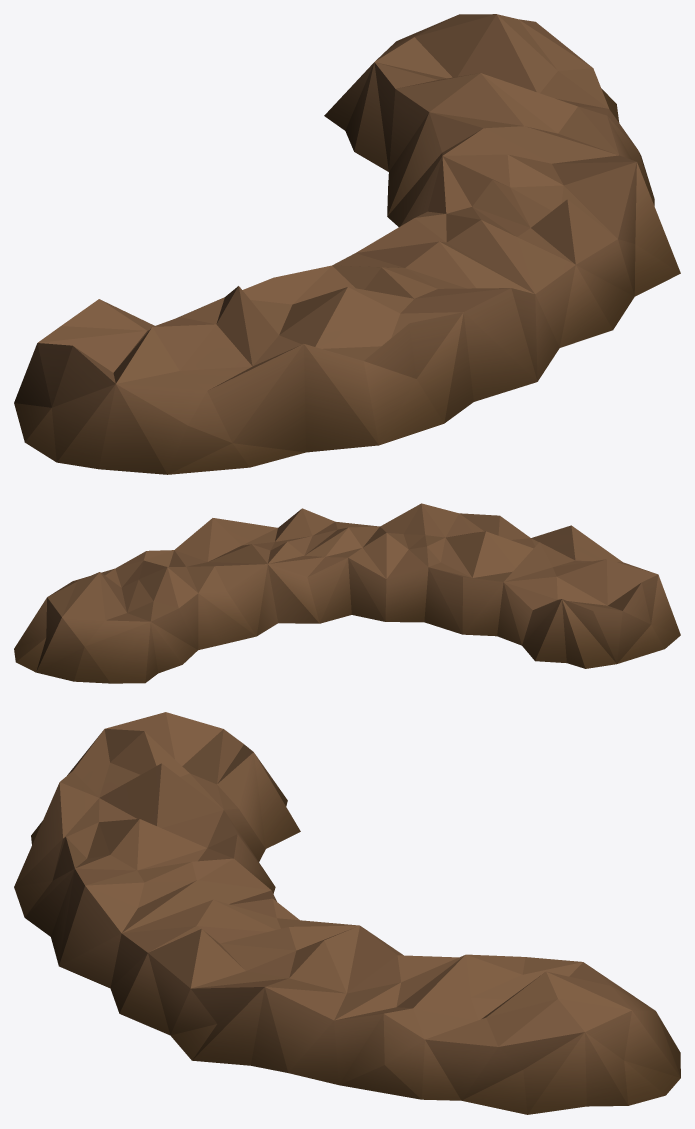
File: ZLP_Road_A_3.FBX
The picture shows the model from 3 angles, top to bottom: view 1: azimuth 30°, elevation 25°; view 2: azimuth 150°, elevation 25°; view 3: azimuth 270°, elevation 25°; orthographic projection. The views are drawn at different scales.
Parts seen in each view (by area): view 1: ZLP_Road_A_3; view 2: ZLP_Road_A_3; view 3: ZLP_Road_A_3.
Part boxes in pixels (x1,y1,x2,y2): ZLP_Road_A_3: (14, 14, 680, 474); ZLP_Road_A_3: (14, 503, 680, 683); ZLP_Road_A_3: (14, 712, 680, 1114).
Size of the model in its own units: 608 by 82.7 by 503.
